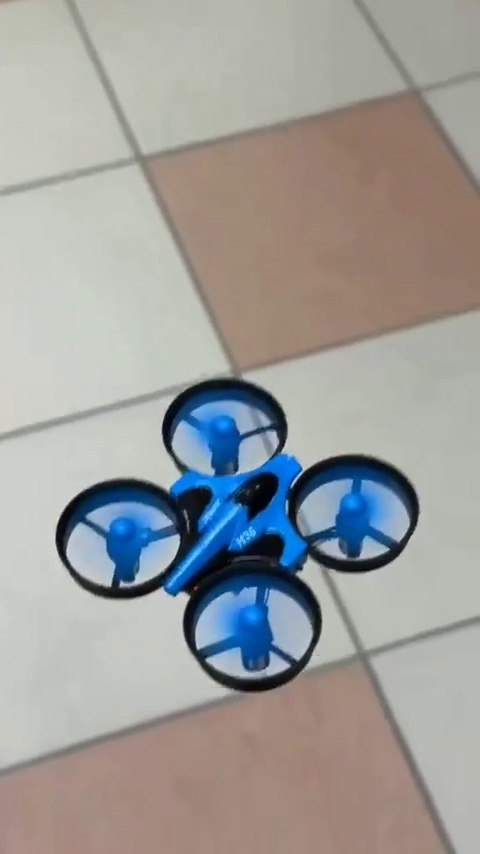drone: (48, 379, 421, 692)
